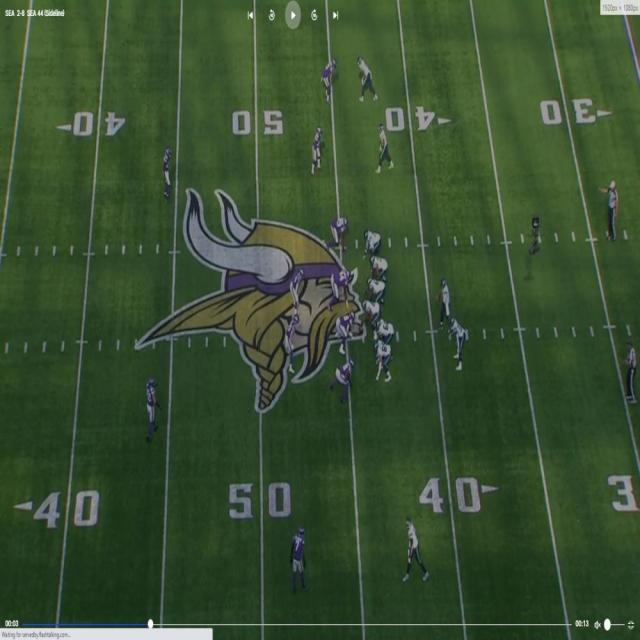center: (361, 296, 378, 332)
db: (293, 523, 309, 583), (310, 124, 324, 170), (322, 58, 336, 101), (146, 378, 156, 436), (161, 145, 172, 195)
lb: (288, 314, 300, 372), (291, 264, 303, 310)
qb: (442, 279, 452, 326)
skill: (406, 516, 427, 581), (452, 319, 468, 369), (355, 56, 372, 101), (376, 125, 391, 167), (362, 229, 383, 255)
